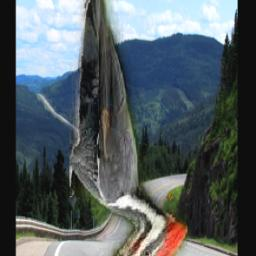Woodpecker: (69, 0, 187, 256)
